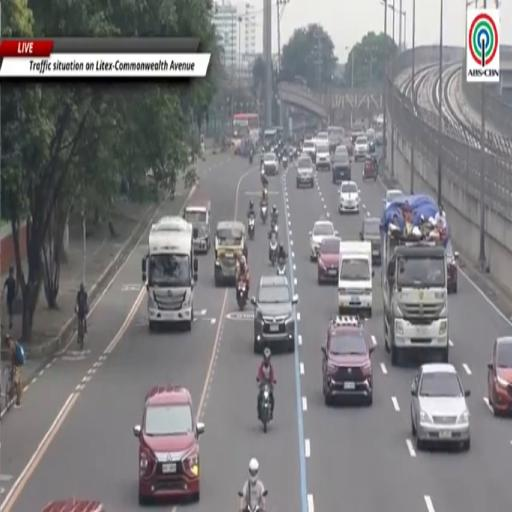bus: (233, 114, 260, 143)
car: (134, 384, 205, 504), (411, 363, 470, 451), (322, 316, 374, 405), (251, 276, 297, 353), (488, 336, 511, 415), (309, 219, 338, 261), (317, 237, 340, 284), (360, 218, 381, 264), (41, 499, 106, 511), (445, 239, 459, 293), (331, 146, 351, 183), (339, 181, 360, 213), (297, 155, 314, 187), (315, 140, 331, 170), (383, 189, 404, 210), (354, 136, 368, 161), (264, 152, 278, 175), (303, 140, 315, 162), (366, 128, 375, 153), (343, 137, 353, 156), (375, 113, 384, 127), (316, 133, 328, 143), (376, 130, 383, 147)
jeepney: (215, 221, 247, 285), (184, 200, 211, 253)
motorcycle: (259, 384, 271, 433), (237, 281, 247, 310), (269, 232, 277, 266), (243, 503, 264, 511), (248, 217, 255, 239), (271, 219, 278, 237), (261, 204, 267, 224), (277, 262, 285, 276), (248, 150, 254, 166), (282, 155, 288, 169)
truck: (381, 196, 449, 365), (142, 216, 198, 331), (338, 242, 374, 317), (328, 126, 344, 154)
